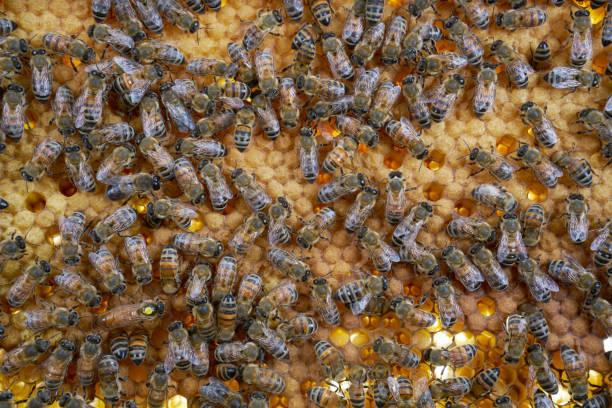Queen-Bee: (95, 299, 164, 329)
worker-bee: (513, 143, 562, 188), (385, 171, 414, 245), (6, 259, 50, 307), (113, 65, 163, 107), (73, 71, 106, 134), (490, 40, 534, 87), (333, 276, 387, 314), (546, 254, 600, 292), (42, 32, 94, 70), (444, 16, 483, 66), (442, 246, 484, 291), (385, 117, 429, 159), (517, 257, 558, 302), (469, 243, 508, 290), (88, 246, 126, 293), (0, 339, 49, 375), (20, 138, 61, 181), (392, 202, 432, 246), (231, 168, 271, 212), (159, 82, 194, 132), (89, 206, 136, 243), (198, 160, 232, 211), (246, 319, 289, 359), (520, 101, 557, 147), (54, 270, 101, 306), (428, 74, 464, 121), (228, 212, 267, 254), (44, 339, 74, 393), (164, 321, 197, 370), (242, 10, 282, 50), (469, 147, 517, 180), (146, 198, 197, 229), (527, 343, 558, 394), (497, 213, 527, 265), (297, 207, 335, 248), (137, 136, 173, 179), (171, 79, 215, 114), (139, 92, 169, 143), (351, 22, 385, 67), (345, 186, 378, 232), (153, 0, 199, 33), (15, 307, 78, 331), (550, 150, 592, 186), (561, 346, 588, 402), (566, 9, 592, 67), (368, 81, 400, 128), (322, 32, 353, 80), (402, 74, 430, 127), (96, 144, 134, 183), (174, 157, 205, 204), (433, 277, 462, 327), (106, 173, 159, 200), (124, 234, 152, 285), (268, 247, 310, 281), (64, 145, 95, 191), (87, 23, 133, 54), (76, 333, 101, 390), (59, 210, 85, 264), (332, 115, 377, 146), (317, 173, 365, 202), (373, 337, 419, 367), (199, 377, 245, 407), (83, 122, 134, 149), (544, 66, 599, 91), (251, 91, 279, 140), (1, 84, 25, 141), (112, 0, 145, 41), (131, 40, 185, 65), (390, 297, 435, 327), (239, 363, 284, 393), (471, 183, 517, 212), (473, 62, 497, 117), (311, 277, 339, 324), (296, 74, 346, 100), (322, 135, 357, 172), (563, 194, 589, 243), (423, 344, 476, 368), (173, 232, 223, 257), (353, 67, 379, 115), (29, 48, 52, 102), (446, 216, 495, 241), (381, 15, 406, 64), (212, 254, 237, 303), (503, 314, 527, 363), (495, 7, 546, 30), (268, 197, 292, 245), (194, 109, 235, 137), (298, 126, 318, 183), (158, 245, 181, 294), (52, 85, 74, 136), (175, 137, 226, 159), (307, 96, 353, 120), (186, 263, 211, 305), (214, 341, 262, 362), (279, 77, 299, 127), (217, 293, 236, 343), (146, 364, 168, 407), (192, 302, 216, 340), (202, 80, 250, 99), (347, 365, 366, 407)
